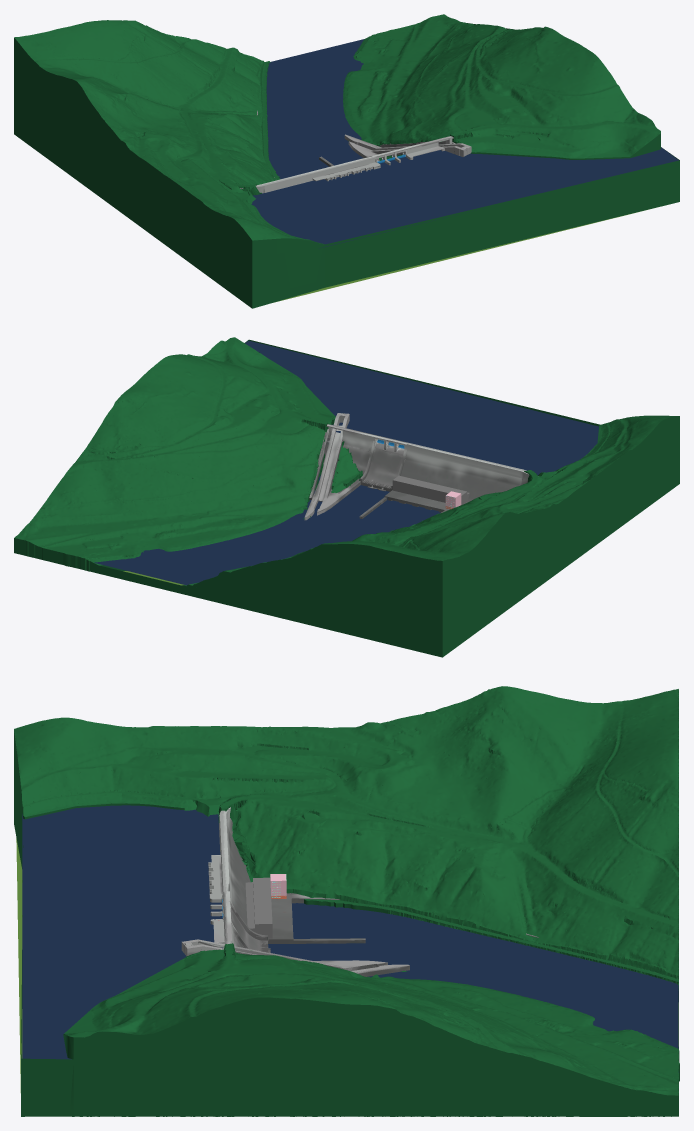
3 renders of one model, top to bottom at view 1: azimuth 30°, elevation 25°; view 2: azimuth 150°, elevation 25°; view 3: azimuth 270°, elevation 25°, orthographic. The views are drawn at different scales.
Parts seen in each view (by area): view 1: ORLÍK_POVRCH, Plocha.001, Plocha.002, orlík_scale_blend; view 2: ORLÍK_POVRCH, Plocha.001, Plocha.002, orlík_scale_blend, orlík_scale_blend.014; view 3: ORLÍK_POVRCH, Plocha.001, Plocha.002, orlík_scale_blend, orlík_scale_blend.014.
Boxes of the visible parts, x1=… form: ORLÍK_POVRCH: x1=14, y1=14, x2=679, y2=308; Plocha.001: x1=251, y1=147, x2=678, y2=248; Plocha.002: x1=266, y1=39, x2=364, y2=179; orlík_scale_blend: x1=240, y1=110, x2=471, y2=193; ORLÍK_POVRCH: x1=14, y1=337, x2=679, y2=657; Plocha.001: x1=245, y1=340, x2=598, y2=475; Plocha.002: x1=94, y1=475, x2=440, y2=585; orlík_scale_blend: x1=304, y1=413, x2=529, y2=520; orlík_scale_blend.014: x1=392, y1=475, x2=469, y2=504; ORLÍK_POVRCH: x1=14, y1=686, x2=679, y2=1116; Plocha.001: x1=22, y1=805, x2=222, y2=1059; Plocha.002: x1=268, y1=903, x2=678, y2=1072; orlík_scale_blend: x1=181, y1=807, x2=538, y2=976; orlík_scale_blend.014: x1=245, y1=877, x2=272, y2=938.
Size of the model in its own units: 1.72 by 0.3786 by 1.66.
Materials: 7 (3 with a texture image).
